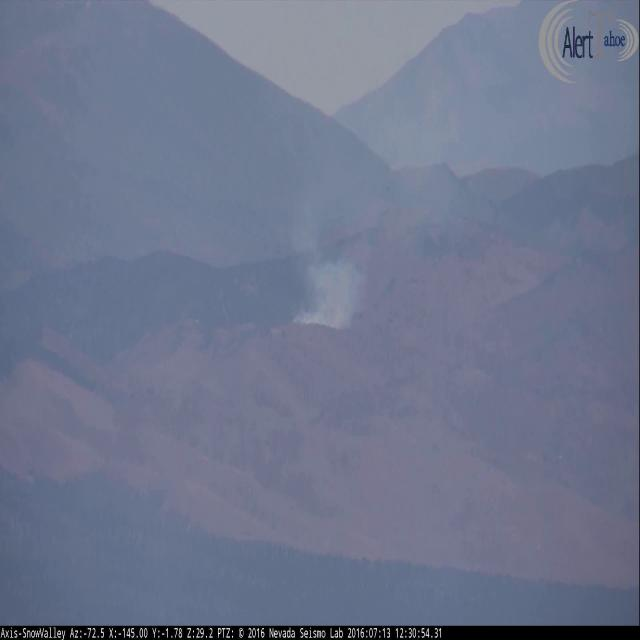smoke: (293, 44, 457, 326)
